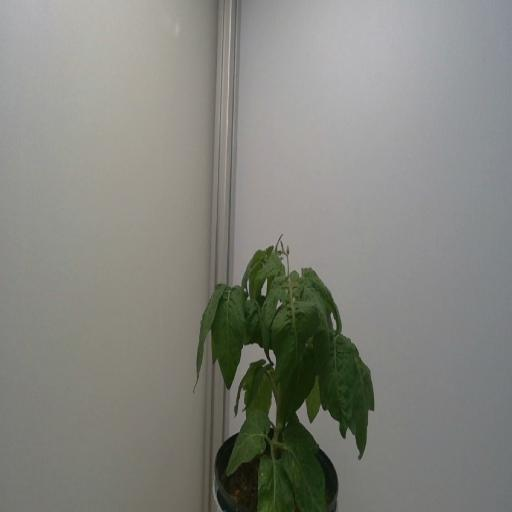Tomato-Leaves-Cupboard-: (274, 296, 317, 424), (281, 414, 331, 512), (318, 329, 364, 427), (294, 255, 346, 334), (193, 286, 224, 400), (216, 277, 246, 393), (227, 402, 266, 477), (256, 452, 292, 512), (246, 238, 282, 296), (246, 295, 276, 363), (247, 365, 273, 423), (228, 373, 252, 419)
